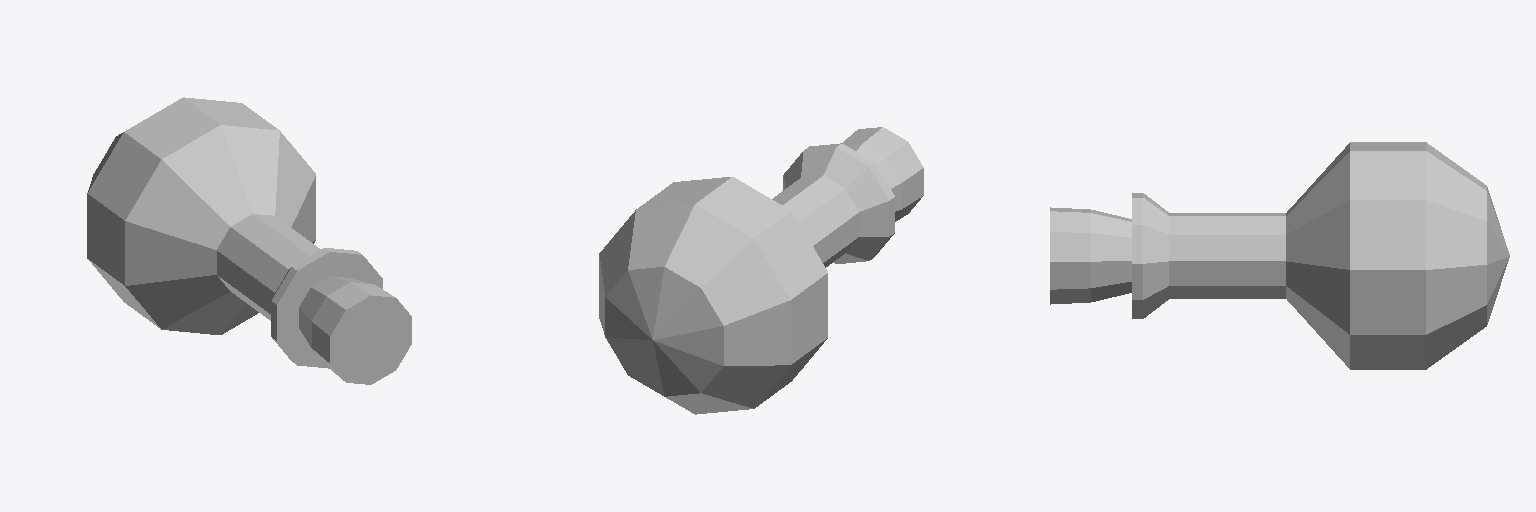
File: Potion_bottle.obj
3 renders of one model, left to right at view 1: azimuth 30°, elevation 25°; view 2: azimuth 150°, elevation 25°; view 3: azimuth 270°, elevation 25°, orthographic.
Visible parts, largest first — view 1: Sphere002; view 2: Sphere002; view 3: Sphere002.
Boxes of the visible parts, <box> form: Sphere002: <box>87,97,411,384</box>; Sphere002: <box>599,127,923,414</box>; Sphere002: <box>1050,142,1509,369</box>.
Size of the model in its own units: 34.52 by 36.29 by 71.95.